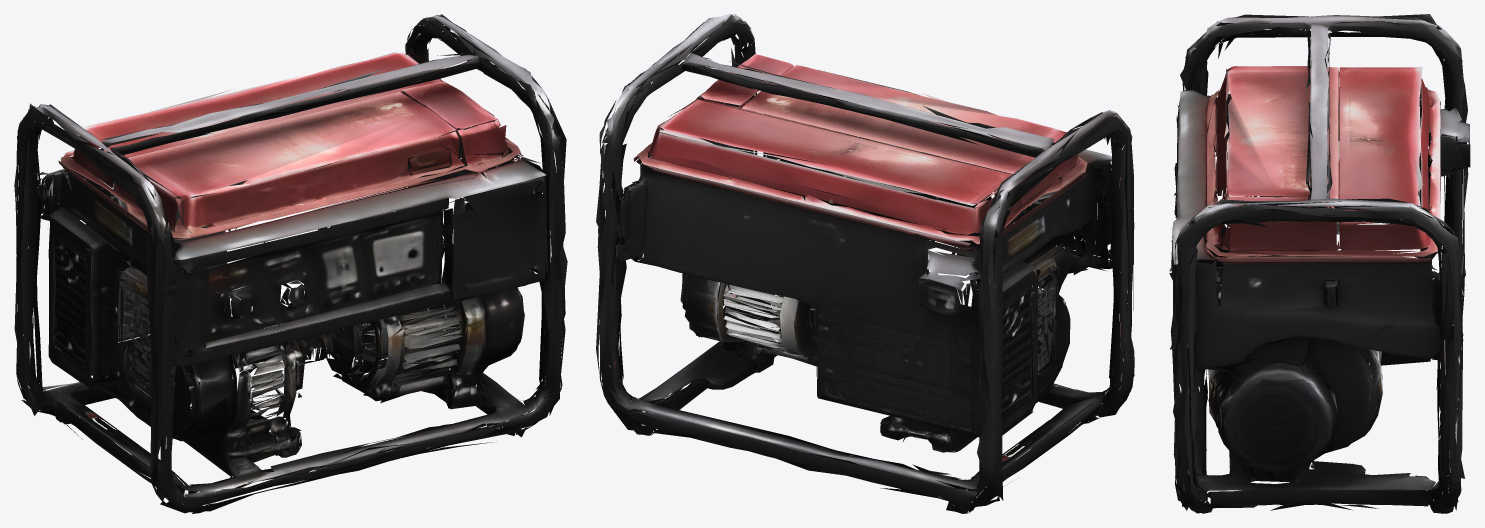
The model's file is generator.glb.
The picture shows the model from 3 angles, left to right: view 1: azimuth 30°, elevation 25°; view 2: azimuth 150°, elevation 25°; view 3: azimuth 270°, elevation 25°; orthographic projection. The views are drawn at different scales.
Parts seen in each view (by area): view 1: generator; view 2: generator; view 3: generator.
Part boxes in pixels (left/top/right/bottom): generator: left=14, top=14, right=567, bottom=513; generator: left=596, top=14, right=1134, bottom=513; generator: left=1169, top=14, right=1470, bottom=513.
Bounding box in the file's own units: 0.9047 × 0.7 × 0.5875.
Materials: 1 (1 with a texture image).
